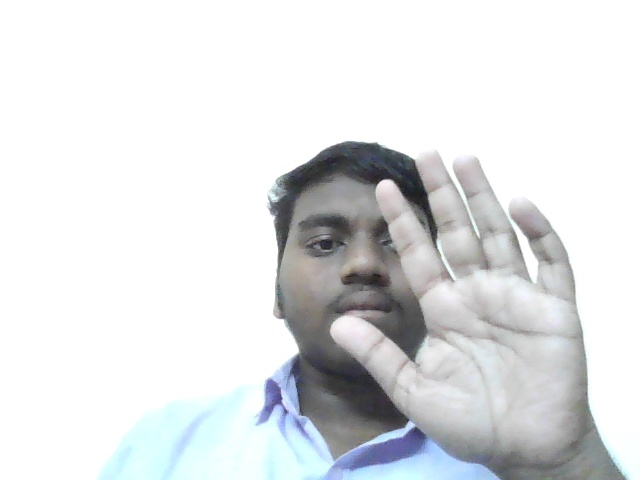Hello: (330, 144, 599, 473)
